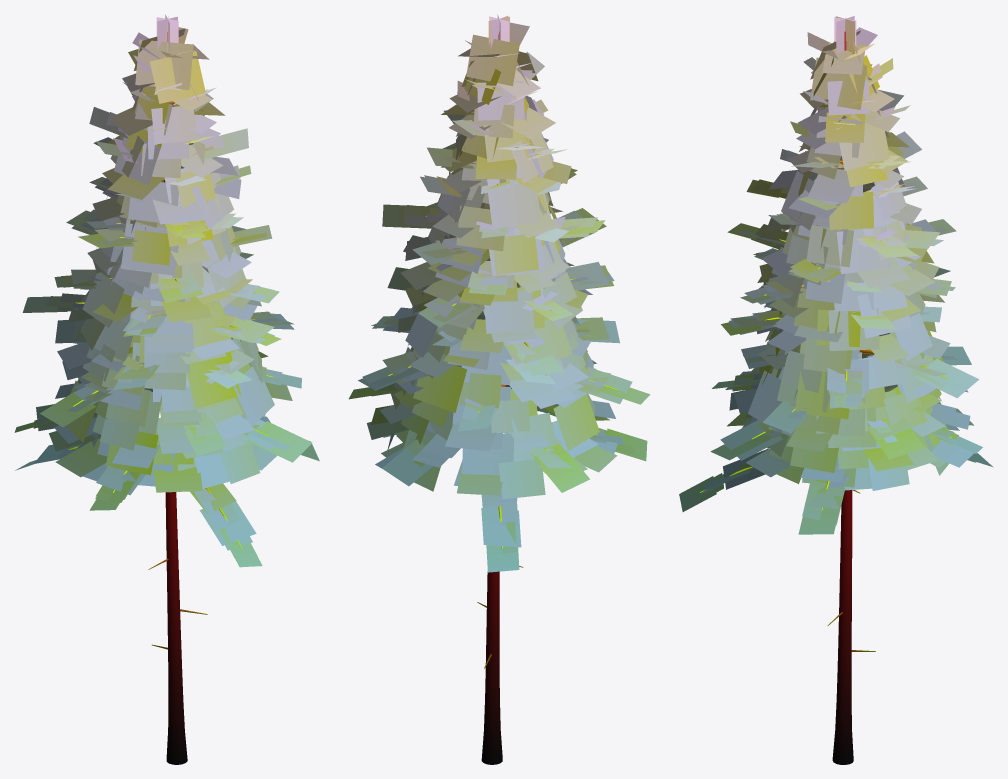
The model's file is hinoki_2.glb.
The picture shows the model from 3 angles, left to right: view 1: azimuth 30°, elevation 25°; view 2: azimuth 150°, elevation 25°; view 3: azimuth 270°, elevation 25°; orthographic projection.
Visible parts, largest first — view 1: hinoki_2_lod0; view 2: hinoki_2_lod0; view 3: hinoki_2_lod0.
Boxes of the visible parts, x1=… form: hinoki_2_lod0: x1=14, y1=14, x2=319, y2=764; hinoki_2_lod0: x1=349, y1=14, x2=650, y2=764; hinoki_2_lod0: x1=679, y1=16, x2=993, y2=764.
Size of what is drawn, in the model's own units: 8.46 by 22.07 by 8.53.
